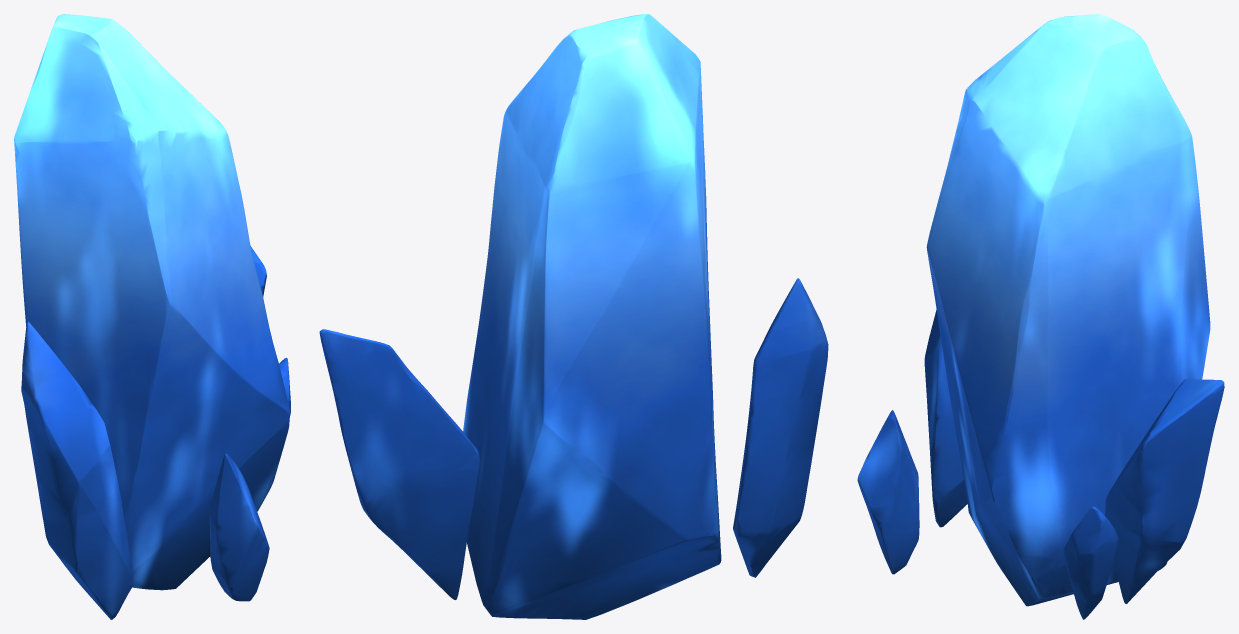
The model's file is odk_cluster_a.glb.
The picture shows the model from 3 angles, left to right: view 1: azimuth 30°, elevation 25°; view 2: azimuth 150°, elevation 25°; view 3: azimuth 270°, elevation 25°; orthographic projection. The views are drawn at different scales.
Parts seen in each view (by area): view 1: odk_cluster_a; view 2: odk_cluster_a; view 3: odk_cluster_a.
Part boxes in pixels (x1,y1,x2,y2): odk_cluster_a: (14, 14, 290, 619); odk_cluster_a: (319, 14, 828, 619); odk_cluster_a: (857, 14, 1224, 619).
Bounding box in the file's own units: 20.75 × 33.75 × 20.18.
Materials: 1 (1 with a texture image).
